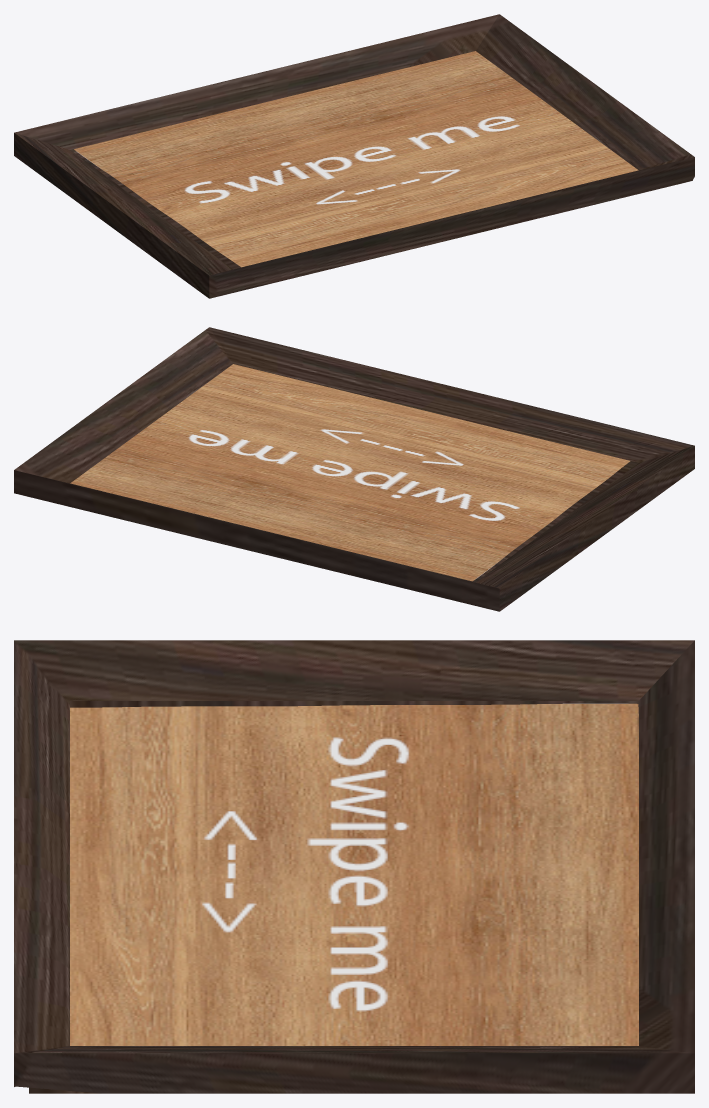
The model's file is swipe bordje.fbx.
The picture shows the model from 3 angles, top to bottom: view 1: azimuth 30°, elevation 25°; view 2: azimuth 150°, elevation 25°; view 3: azimuth 270°, elevation 25°; orthographic projection. The views are drawn at different scales.
Visible parts, largest first — view 1: Cube; view 2: Cube; view 3: Cube.
Boxes of the visible parts, x1,y1,x2,y2 form: Cube: (14,14,694,298); Cube: (14,327,694,611); Cube: (14,640,694,1093).
Size of the model in its own units: 64.63 by 2.95 by 45.01.
1 material, 1 textured.
